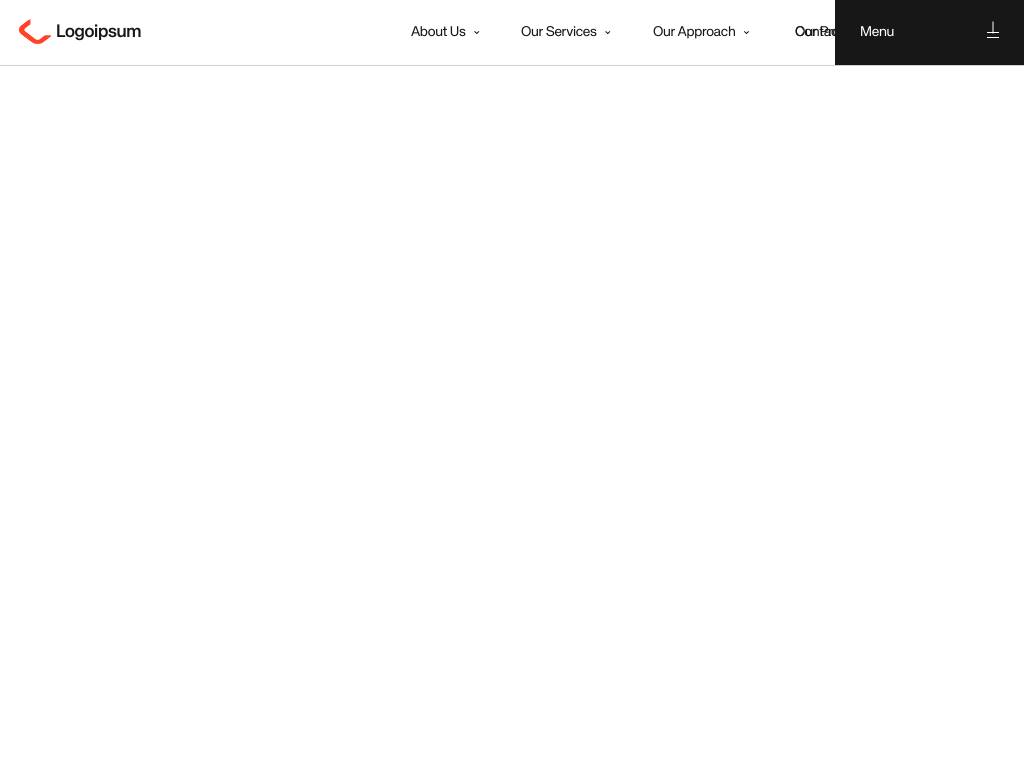
Test: homepage components › opens and closes the accessible mobile menu
Click the button "Menu": x=930, y=32 [835,0,1023,65]
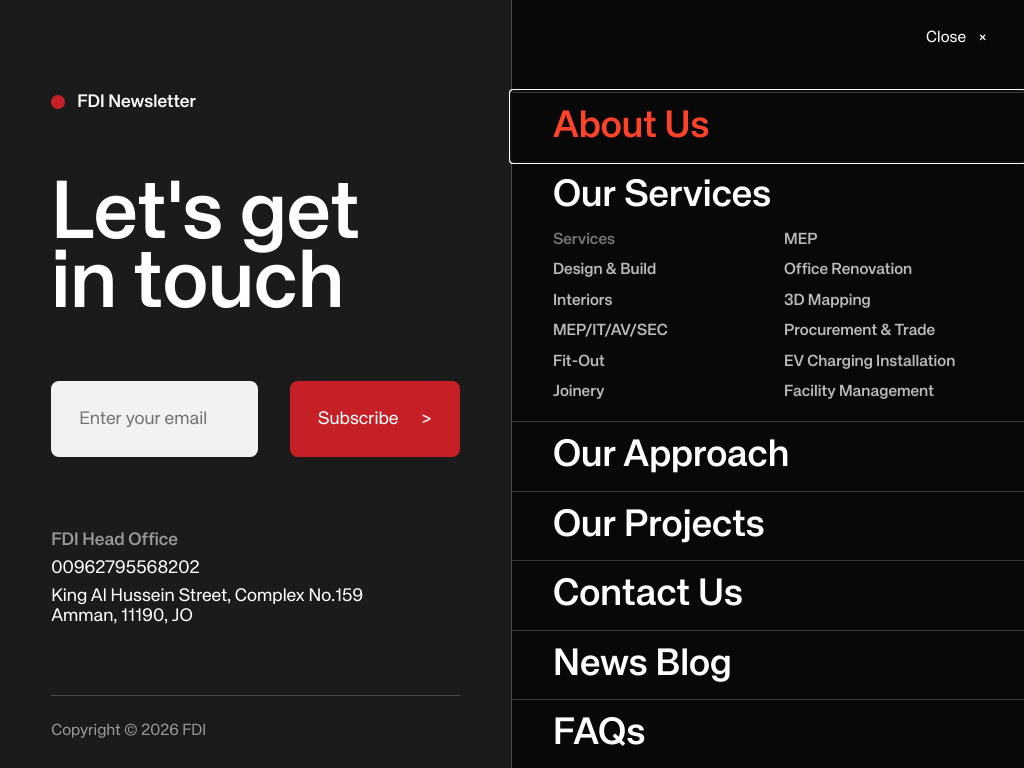
Expected: the button named "menu" is expanded, [835,0,1023,65]
Press Tab
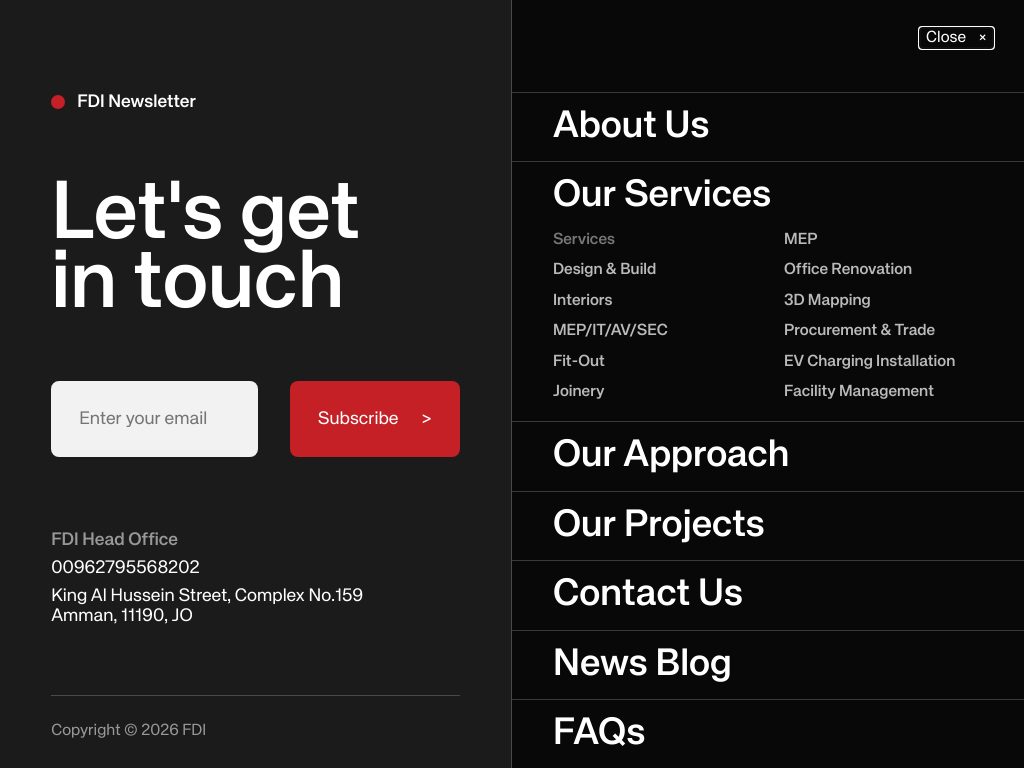
In the field named "Email address": x=154, y=419 [51,381,258,457], type "studio@example.com"
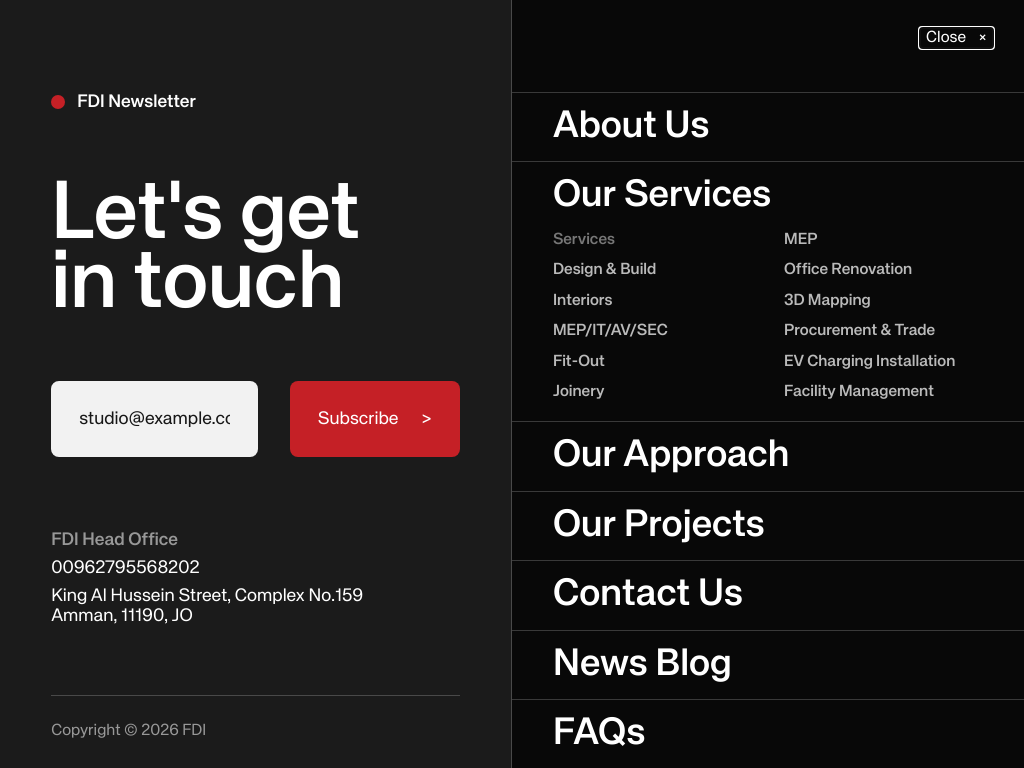
Submit the form named "Menu newsletter subscription", box [51,381,460,507]
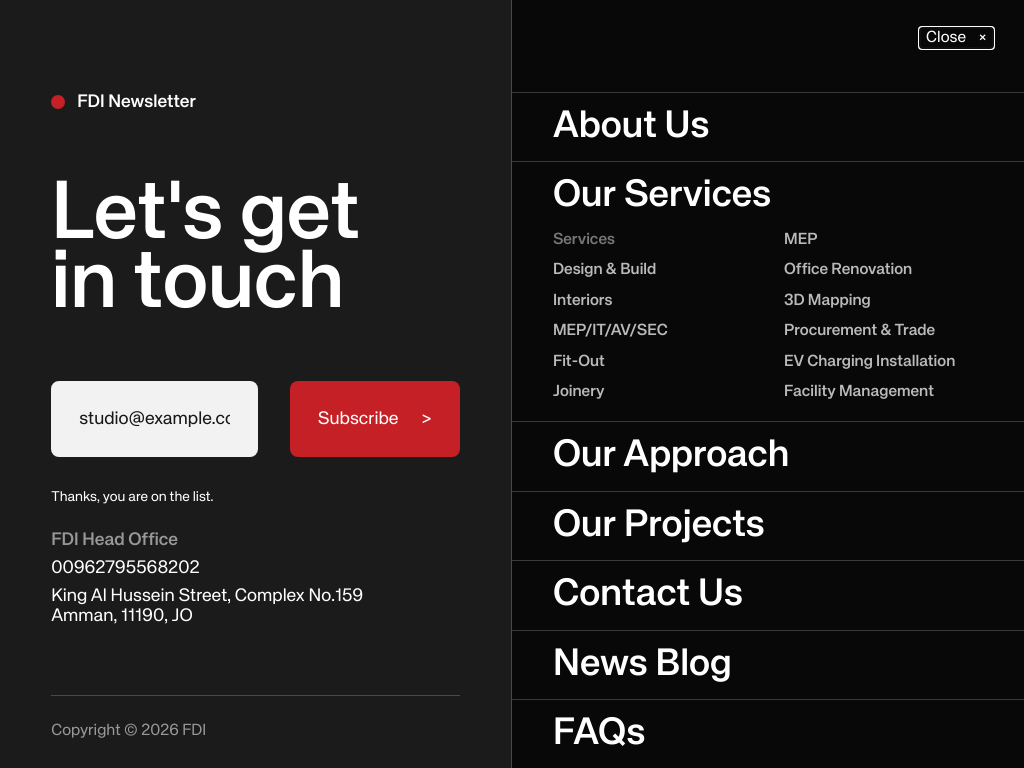
Expected: the message reads "Thanks, you are on the list.", [51,490,213,504]
Press Escape
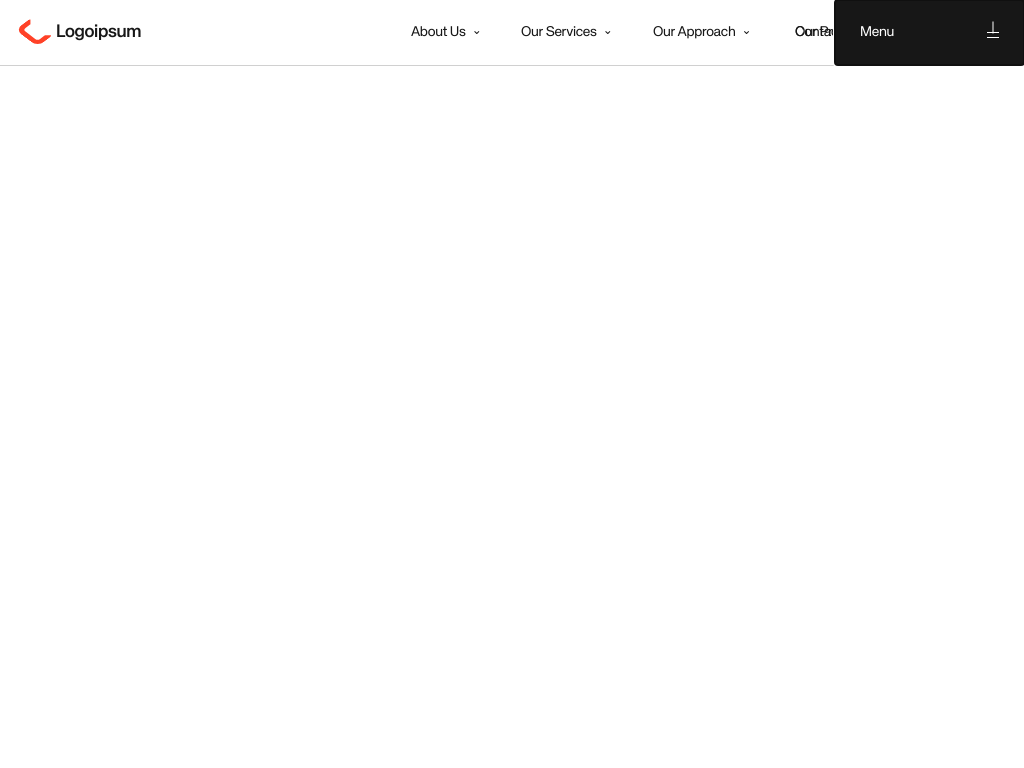
Expected: the button "Menu" is collapsed, [835,0,1023,65]
